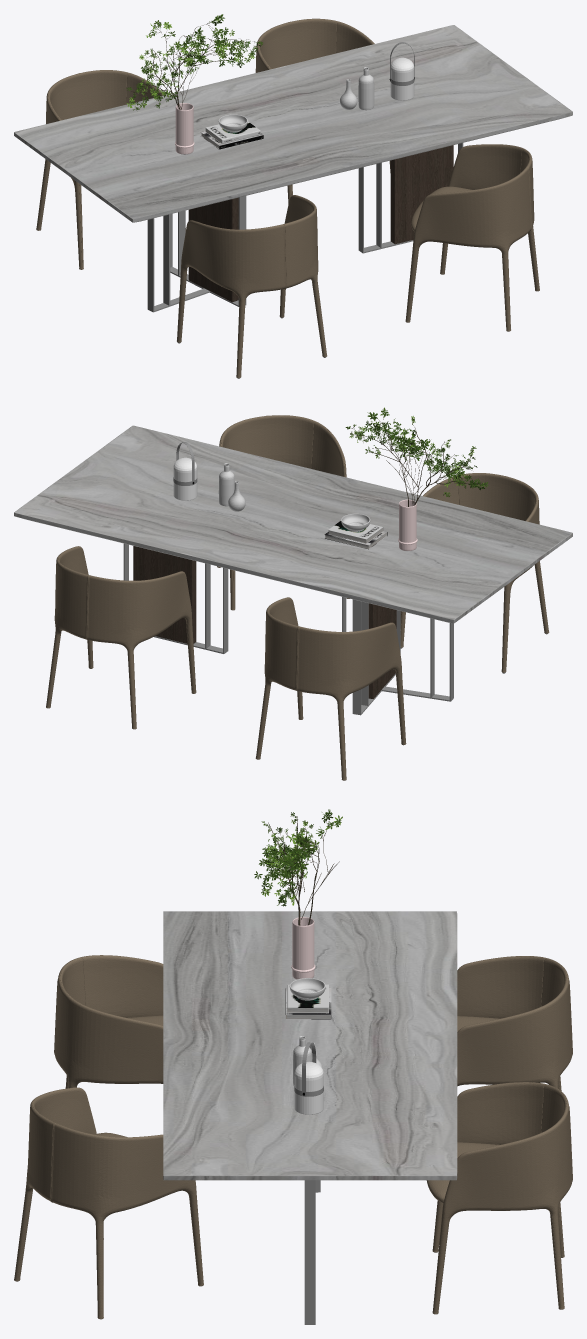
Rendered from 1ewtgretgres.glb.
The picture shows the model from 3 angles, top to bottom: view 1: azimuth 30°, elevation 25°; view 2: azimuth 150°, elevation 25°; view 3: azimuth 270°, elevation 25°; orthographic projection. The views are drawn at different scales.
Visible parts, largest first — view 1: mesh_7_ROOT__组041__JianE_model_202151985625386_Layer0, mesh_31_ROOT__1QWERFEWFRE__网格006_Layer0_154_143_125_ss, mesh_17_ROOT__网格006_Layer0_154_143_125_ss, mesh_24_ROOT__网格006_Layer0_154_143_125_ss, mesh_22_ROOT__网格006_Layer0_154_143_125_ss, mesh_3_ROOT__组041__组040__Rectangle259_Layer0, mesh_26_ROOT__111213424__组002__建E_model_202196105946280144_L, mesh_27_ROOT__111213424__组002__建E_model_202196105946280144_L, mesh_4_ROOT__组041__Rectangle261_Layer0, mesh_6_ROOT__组041__Rectangle263_Layer0, mesh_2_ROOT__组041__组040__Rectangle260_Layer0, mesh_5_ROOT__组041__Rectangle262_Layer0 (+5 smaller); view 2: mesh_7_ROOT__组041__JianE_model_202151985625386_Layer0, mesh_22_ROOT__网格006_Layer0_154_143_125_ss, mesh_24_ROOT__网格006_Layer0_154_143_125_ss, mesh_31_ROOT__1QWERFEWFRE__网格006_Layer0_154_143_125_ss, mesh_17_ROOT__网格006_Layer0_154_143_125_ss, mesh_3_ROOT__组041__组040__Rectangle259_Layer0, mesh_26_ROOT__111213424__组002__建E_model_202196105946280144_L, mesh_2_ROOT__组041__组040__Rectangle260_Layer0, mesh_6_ROOT__组041__Rectangle263_Layer0, mesh_5_ROOT__组041__Rectangle262_Layer0, mesh_29_ROOT__111213424__组002__建E_model_202196105946280143_L, mesh_27_ROOT__111213424__组002__建E_model_202196105946280144_L (+5 smaller); view 3: mesh_7_ROOT__组041__JianE_model_202151985625386_Layer0, mesh_22_ROOT__网格006_Layer0_154_143_125_ss, mesh_31_ROOT__1QWERFEWFRE__网格006_Layer0_154_143_125_ss, mesh_24_ROOT__网格006_Layer0_154_143_125_ss, mesh_17_ROOT__网格006_Layer0_154_143_125_ss, mesh_26_ROOT__111213424__组002__建E_model_202196105946280144_L, mesh_2_ROOT__组041__组040__Rectangle260_Layer0, mesh_27_ROOT__111213424__组002__建E_model_202196105946280144_L, mesh_28_ROOT__111213424__组002__建E_model_202196105946280145_L, mesh_8_ROOT__组058__组035__组034__Zara_Home_Light_1__Zara_Home_, mesh_29_ROOT__111213424__组002__建E_model_202196105946280143_L, mesh_11_ROOT__JianE_model_202012310298469__JianE_model_20201.
Part boxes in pixels (x1,y1,x2,y2): mesh_7_ROOT__组041__JianE_model_202151985625386_Layer0: [14, 25, 572, 222]; mesh_31_ROOT__1QWERFEWFRE__网格006_Layer0_154_143_125_ss: [405, 144, 539, 331]; mesh_17_ROOT__网格006_Layer0_154_143_125_ss: [177, 195, 327, 378]; mesh_24_ROOT__网格006_Layer0_154_143_125_ss: [36, 70, 185, 269]; mesh_22_ROOT__网格006_Layer0_154_143_125_ss: [255, 18, 390, 204]; mesh_3_ROOT__组041__组040__Rectangle259_Layer0: [390, 145, 453, 244]; mesh_26_ROOT__111213424__组002__建E_model_202196105946280144_L: [126, 14, 262, 110]; mesh_27_ROOT__111213424__组002__建E_model_202196105946280144_L: [126, 15, 260, 110]; mesh_4_ROOT__组041__Rectangle261_Layer0: [188, 197, 238, 302]; mesh_6_ROOT__组041__Rectangle263_Layer0: [147, 214, 209, 312]; mesh_2_ROOT__组041__组040__Rectangle260_Layer0: [358, 143, 463, 253]; mesh_5_ROOT__组041__Rectangle262_Layer0: [170, 196, 246, 306]; mesh_7_ROOT__组041__JianE_model_202151985625386_Layer0: [14, 425, 572, 623]; mesh_22_ROOT__网格006_Layer0_154_143_125_ss: [46, 546, 196, 729]; mesh_24_ROOT__网格006_Layer0_154_143_125_ss: [255, 597, 406, 780]; mesh_31_ROOT__1QWERFEWFRE__网格006_Layer0_154_143_125_ss: [217, 415, 349, 610]; mesh_17_ROOT__网格006_Layer0_154_143_125_ss: [400, 473, 549, 672]; mesh_3_ROOT__组041__组040__Rectangle259_Layer0: [133, 546, 196, 643]; mesh_26_ROOT__111213424__组002__建E_model_202196105946280144_L: [346, 409, 488, 496]; mesh_2_ROOT__组041__组040__Rectangle260_Layer0: [123, 543, 228, 653]; mesh_6_ROOT__组041__Rectangle263_Layer0: [342, 597, 453, 701]; mesh_5_ROOT__组041__Rectangle262_Layer0: [352, 599, 400, 715]; mesh_29_ROOT__111213424__组002__建E_model_202196105946280143_L: [350, 417, 472, 506]; mesh_27_ROOT__111213424__组002__建E_model_202196105946280144_L: [345, 407, 485, 496]; mesh_7_ROOT__组041__JianE_model_202151985625386_Layer0: [163, 911, 457, 1180]; mesh_22_ROOT__网格006_Layer0_154_143_125_ss: [426, 1082, 572, 1314]; mesh_31_ROOT__1QWERFEWFRE__网格006_Layer0_154_143_125_ss: [14, 1087, 203, 1319]; mesh_24_ROOT__网格006_Layer0_154_143_125_ss: [457, 956, 572, 1090]; mesh_17_ROOT__网格006_Layer0_154_143_125_ss: [54, 955, 163, 1088]; mesh_26_ROOT__111213424__组002__建E_model_202196105946280144_L: [254, 809, 341, 906]; mesh_2_ROOT__组041__组040__Rectangle260_Layer0: [304, 1180, 315, 1324]; mesh_27_ROOT__111213424__组002__建E_model_202196105946280144_L: [262, 812, 342, 905]; mesh_28_ROOT__111213424__组002__建E_model_202196105946280145_L: [291, 917, 315, 979]; mesh_8_ROOT__组058__组035__组034__Zara_Home_Light_1__Zara_Home_: [294, 1061, 323, 1114]; mesh_29_ROOT__111213424__组002__建E_model_202196105946280143_L: [266, 816, 339, 925]; mesh_11_ROOT__JianE_model_202012310298469__JianE_model_20201: [289, 978, 325, 1000].
Size of the model in its own units: 2310 by 1379 by 2060.
Materials: 18 (10 with a texture image).
